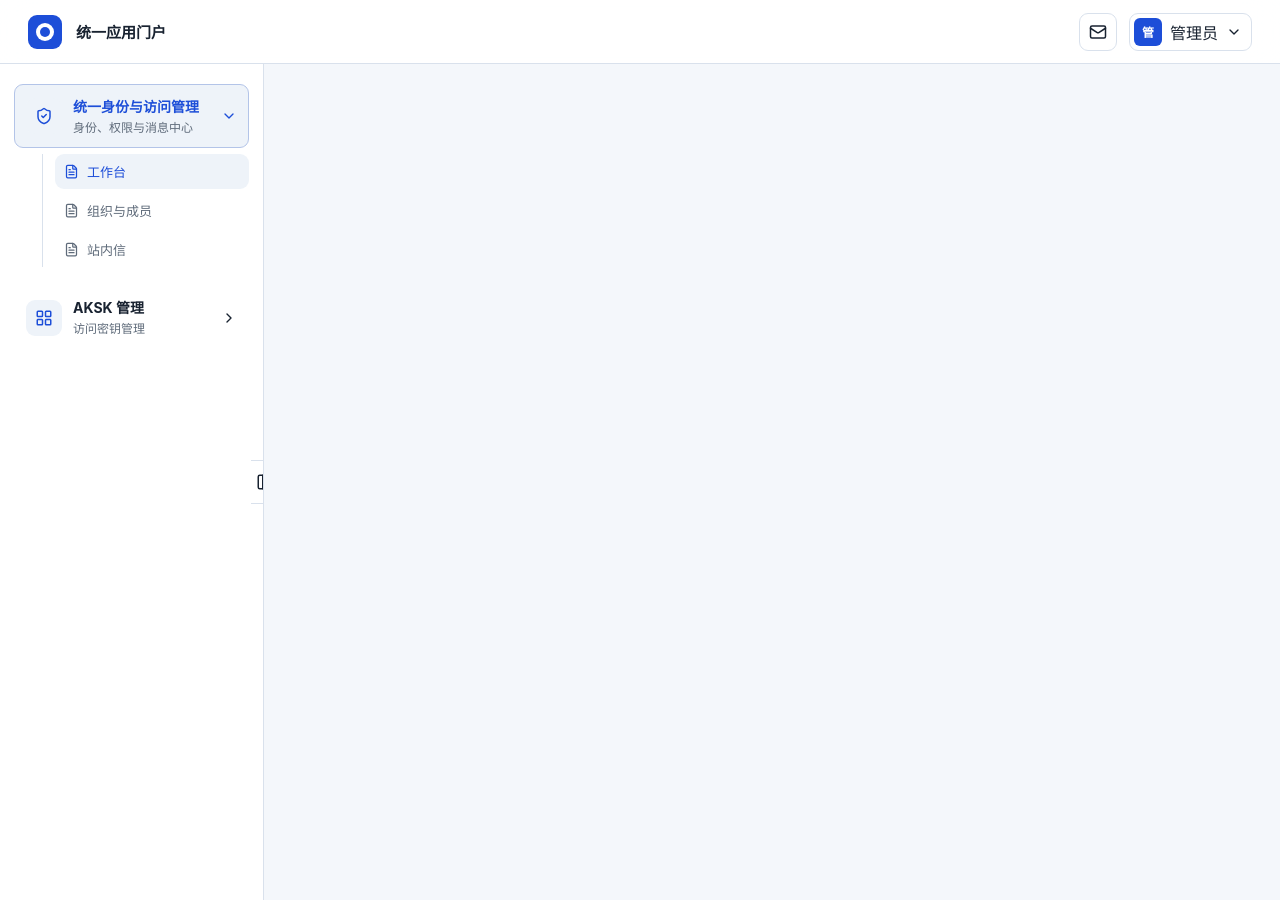
Portal App › 多个应用根节点应分别控制自己的模块菜单
The width and height of the screenshot is (1280, 900).
Click the button with class "app-nav-item" showing "AKSK 管理 访问密钥管理" at [132, 318], box [14,285,249,350]
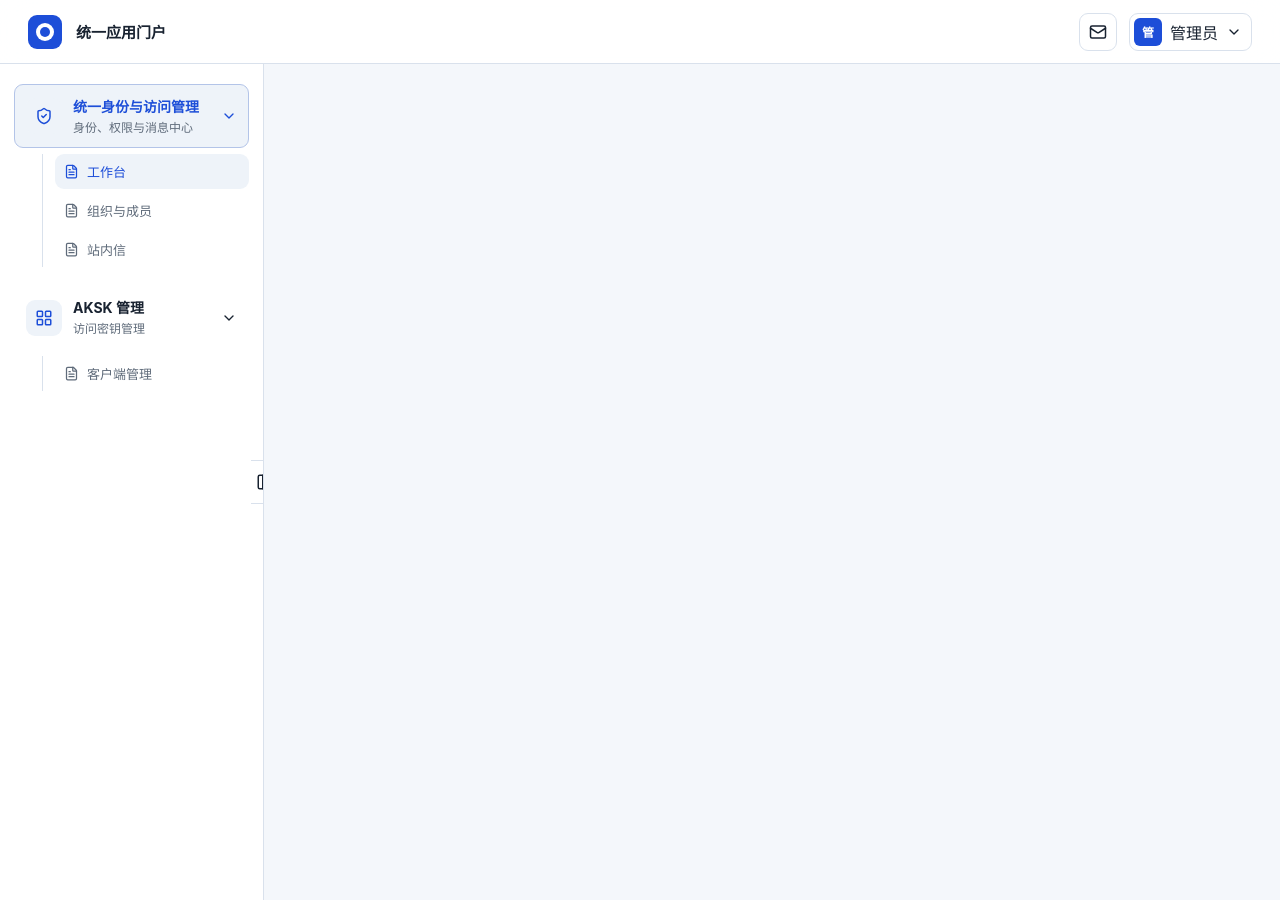
Expected: the button with class "app-nav-item" is expanded, [14,285,249,350]
Click the button with class "app-nav-item" showing "统一身份与访问管理 身份、权限与消息中心" at [132, 116], box [14,84,249,148]
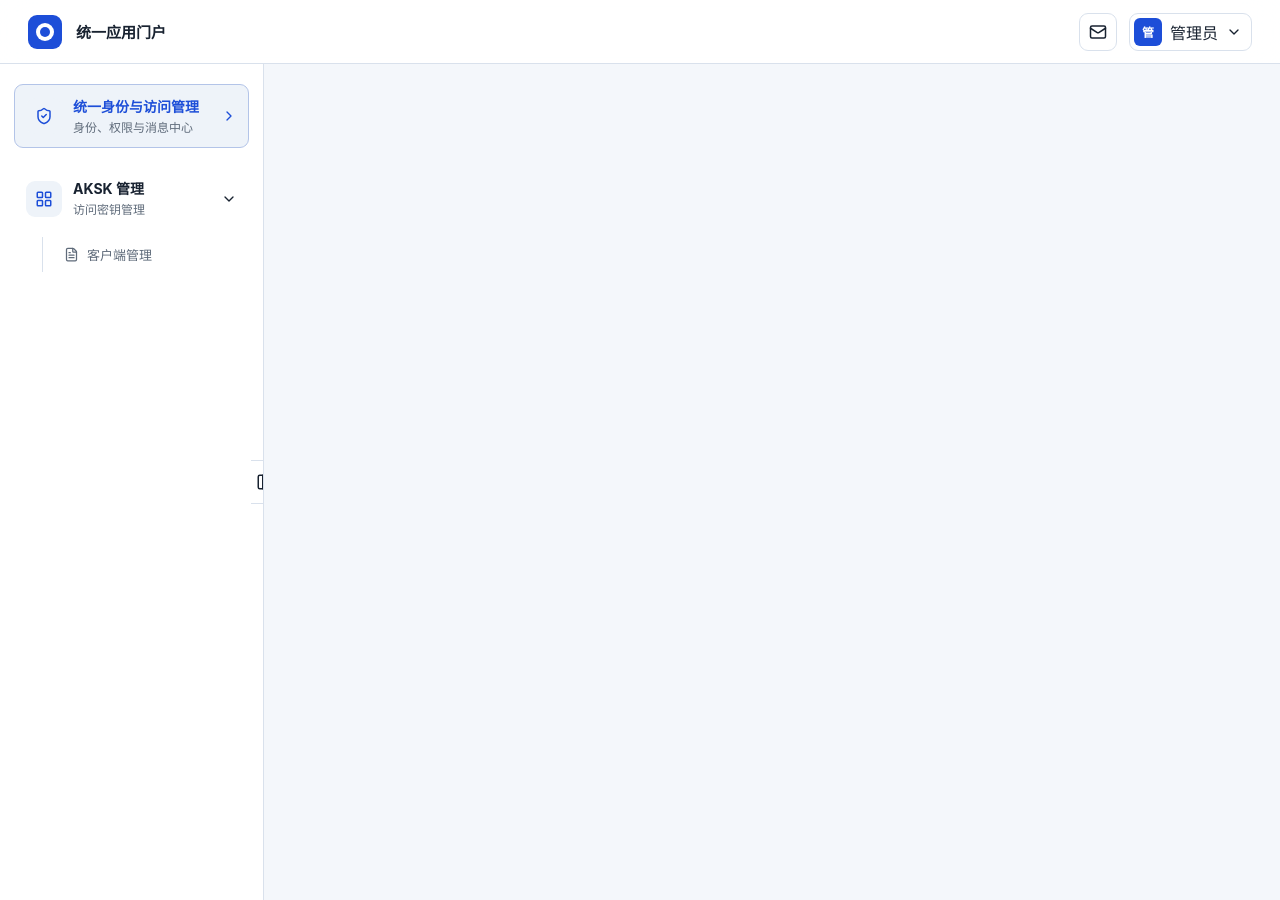
Expected: the button with class "app-nav-item" is expanded, [14,166,249,231]
Expected: the button with class "app-nav-item" is collapsed, [14,84,249,148]
